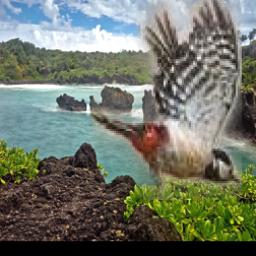Woodpecker: (89, 0, 241, 200)
